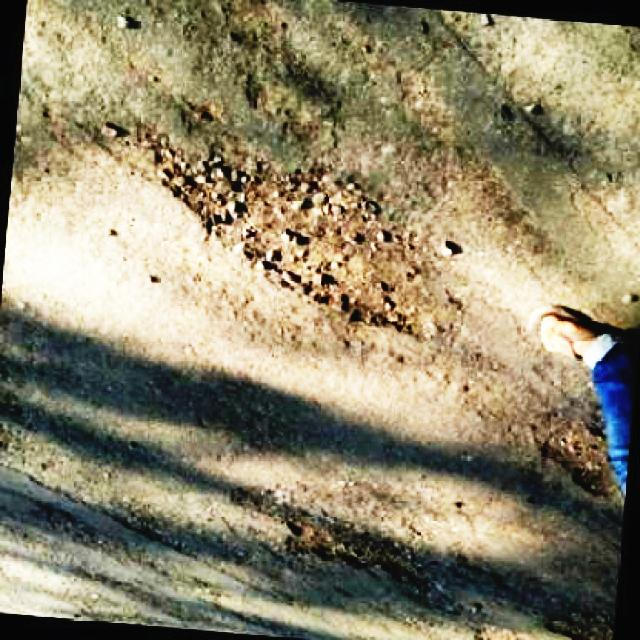pothole: (148, 142, 458, 346), (260, 477, 446, 588), (534, 414, 632, 495), (552, 604, 619, 640)
